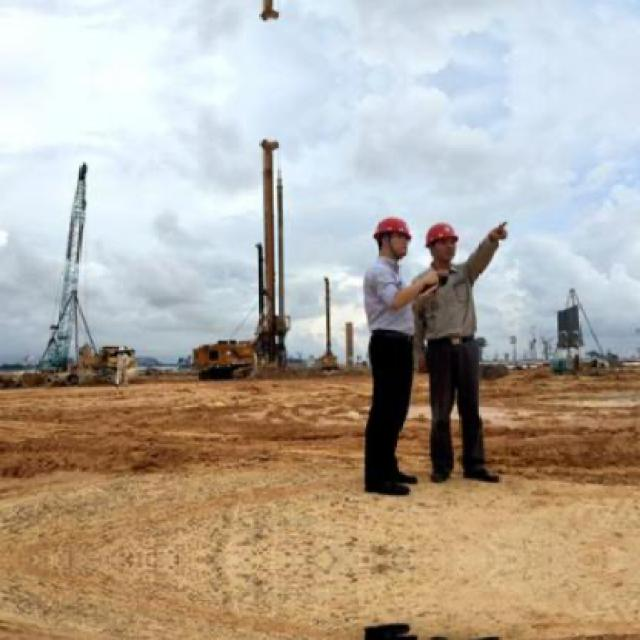con casco: (359, 207, 414, 266), (423, 209, 476, 262)
